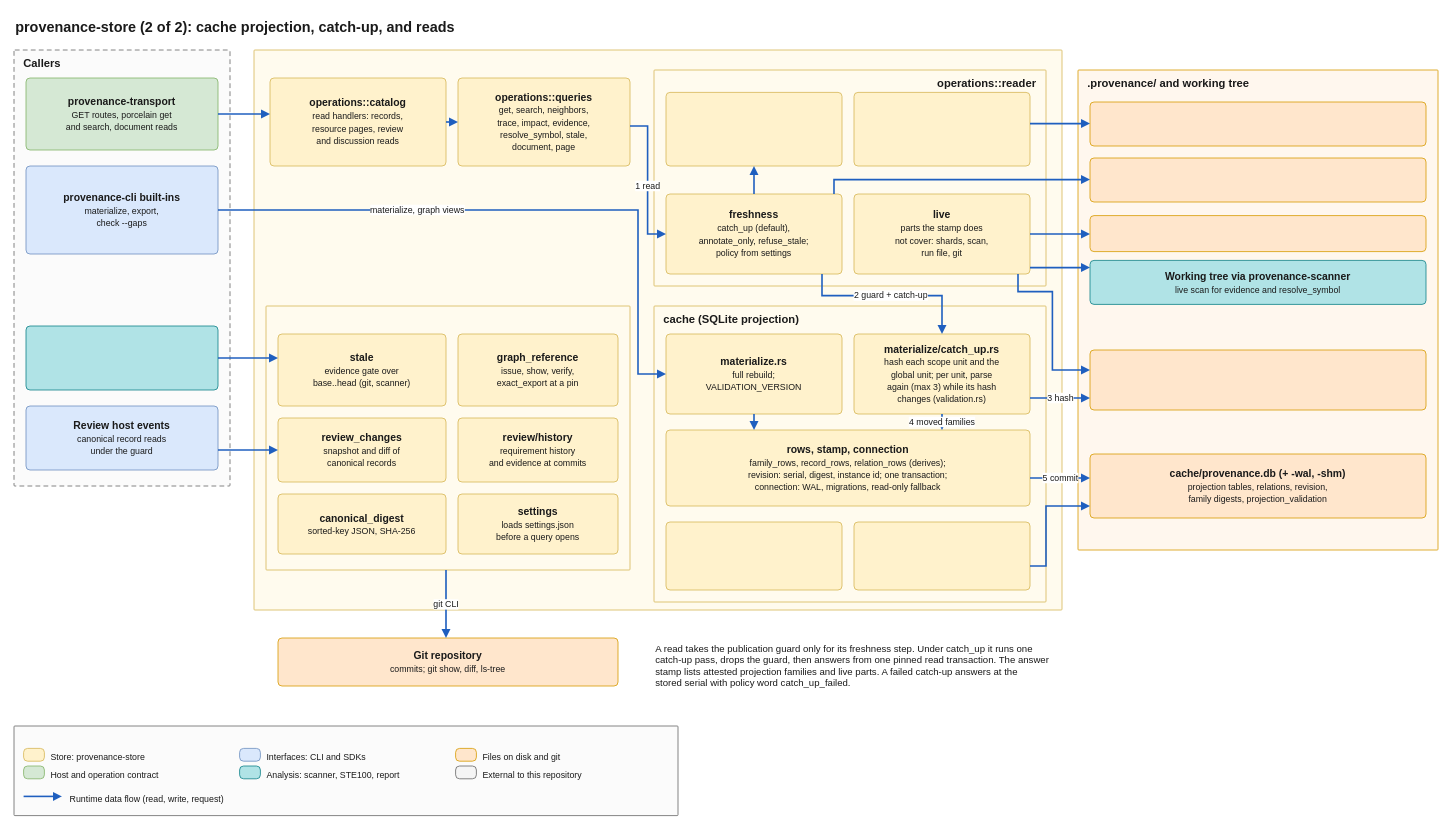
Image size: 1452x830. Some labels were removed from this diagram. The shapes that lost their labels are listed below. From the top down, each one's box as (x1, y1, x2, y2) in pixels, then its label:
(665, 92, 842, 166): snapshot pinned SQLite read transaction; attested projection families
(853, 92, 1030, 166): cursor authenticated continuation position
(1089, 101, 1426, 146): cache/read-cursor.key key for continuation cursors
(1089, 157, 1426, 202): settings.json (tracked) read.freshness_policy, read.scan_limit
(1089, 215, 1426, 252): cache/scopes/<scope>/verification-runs.jsonl
(253, 49, 1062, 610): provenance-store read side
(25, 325, 218, 390): provenance-report stale gate report; cache::graph_evidence
(1089, 349, 1426, 410): state/manifest.json, scopes/<scope>/**.jsonl canonical JSONL: hashed, parsed
(265, 305, 630, 570): git-backed reads and events
(665, 521, 842, 590): read document, records, discussions, pages
(853, 521, 1030, 590): graph views gaps, impact, trace, health, requirement graph
(13, 725, 678, 816): Legend
